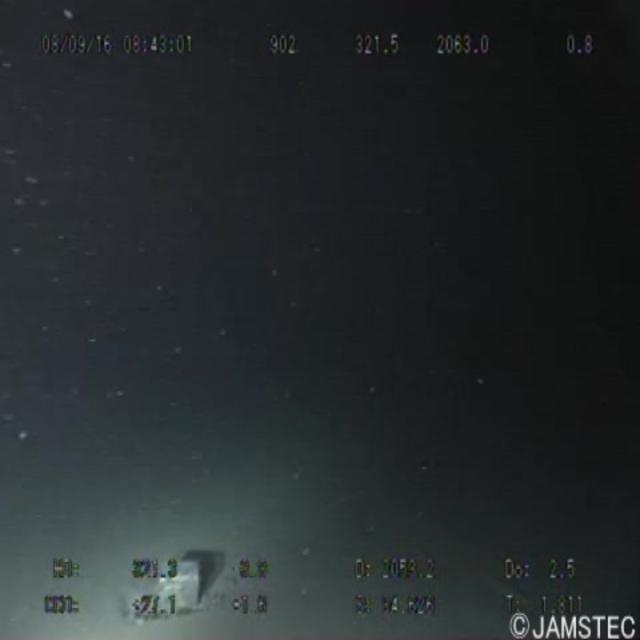Cutlery: (133, 545, 212, 620)
